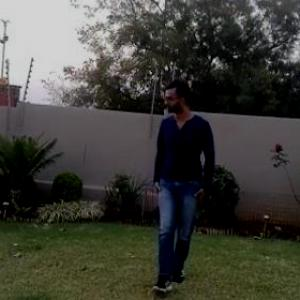follow: (145, 72, 215, 299)
